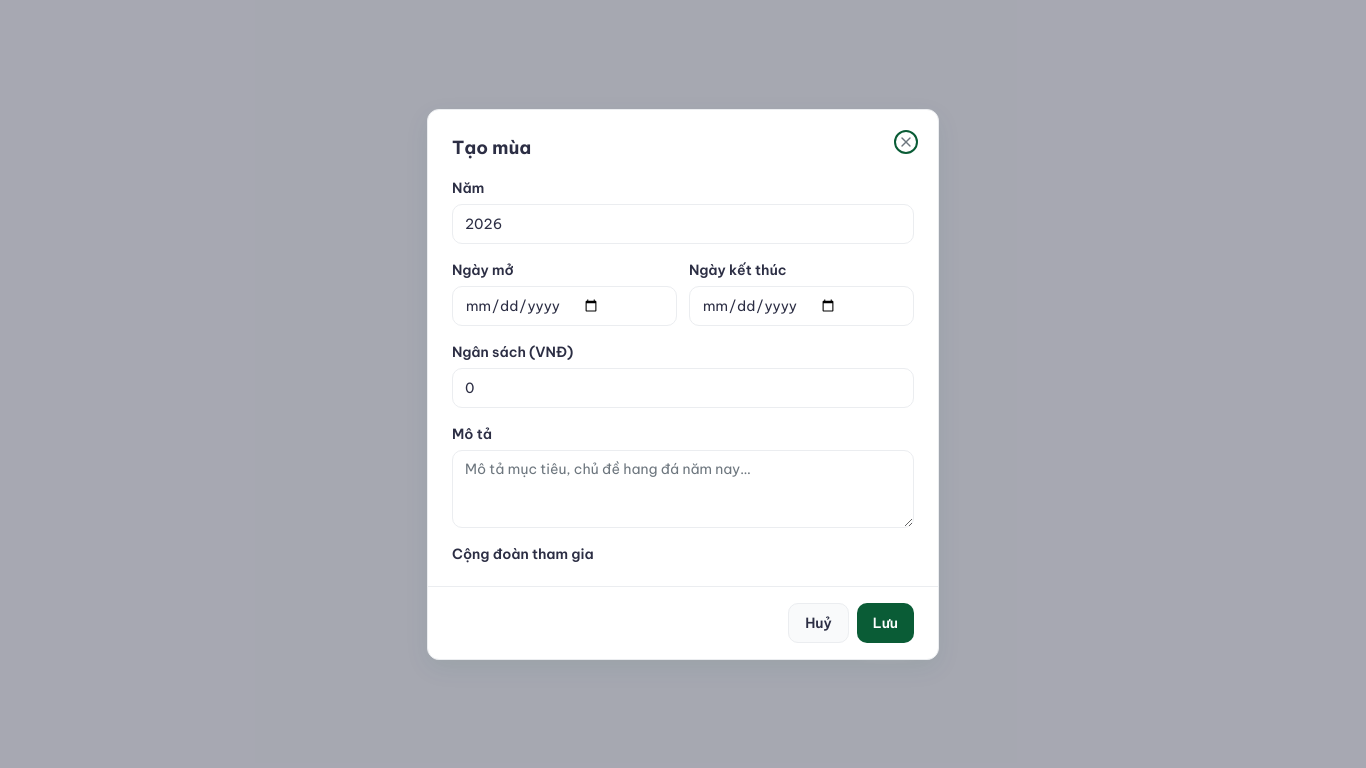
Test case: SeasonFormDialog validation › chưa chọn cộng đoàn → hiện lỗi "Chọn ít nhất 1 cộng đoàn tham gia"
In the date field labelled "Ngày mở": (564, 306) [452,286,677,326], type "2026-09-15"
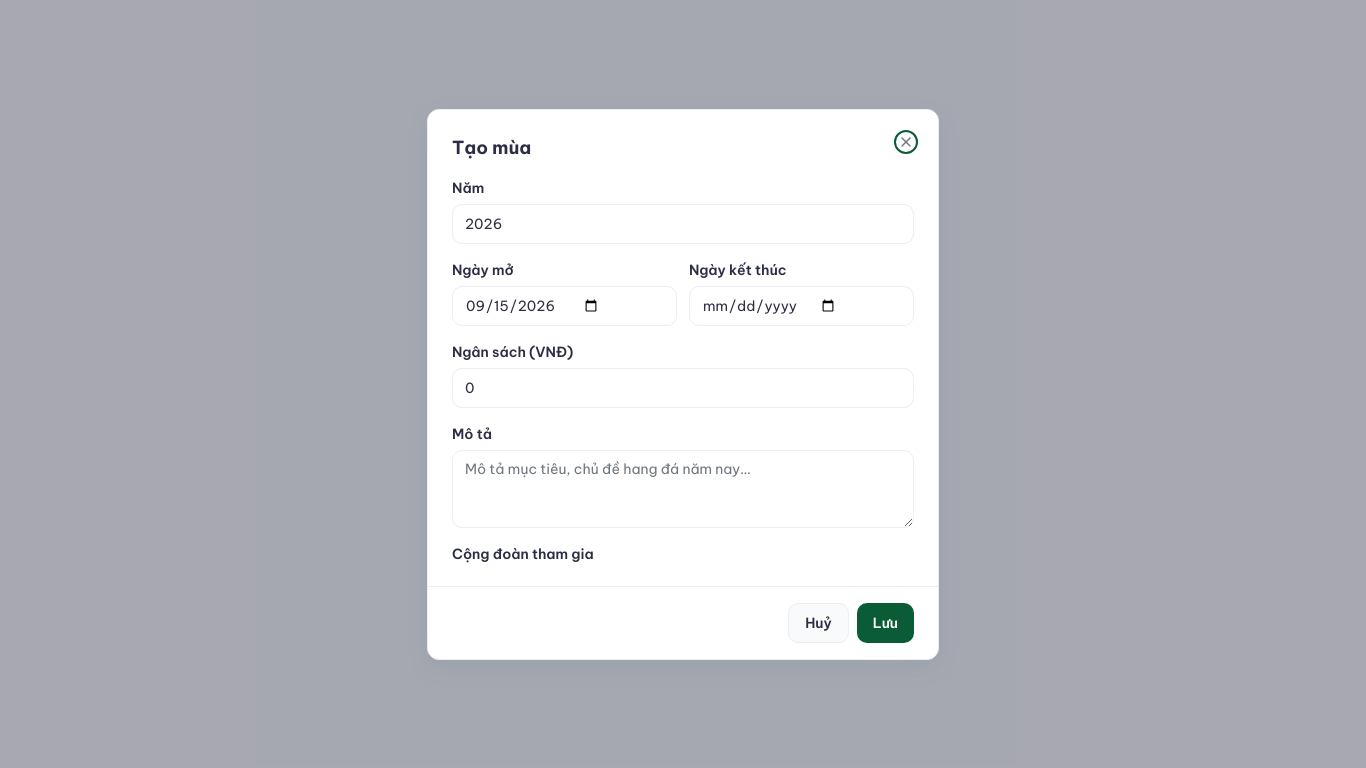
In the date field labelled "Ngày kết thúc": (802, 306) [689,286,914,326], type "2026-12-24"
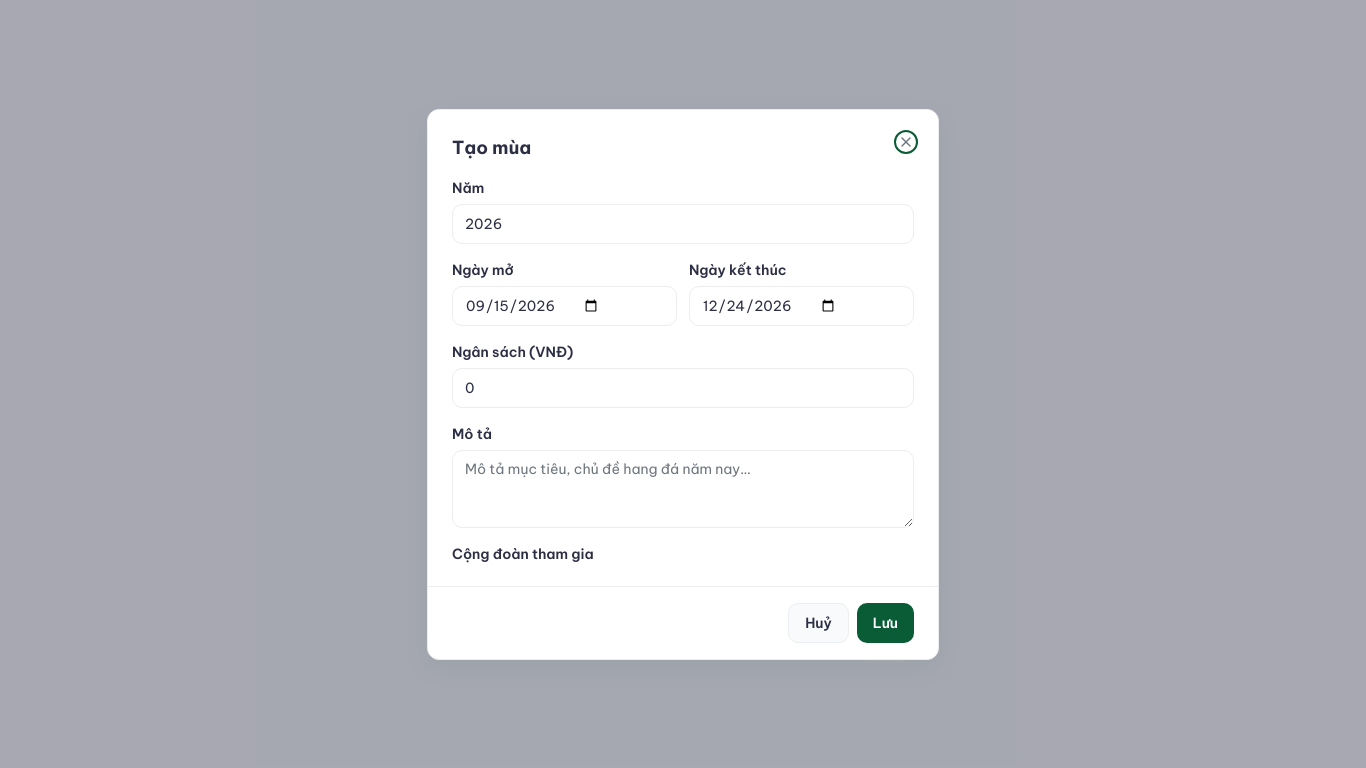
Submit the form with id "season-form", box [452,178,914,570]
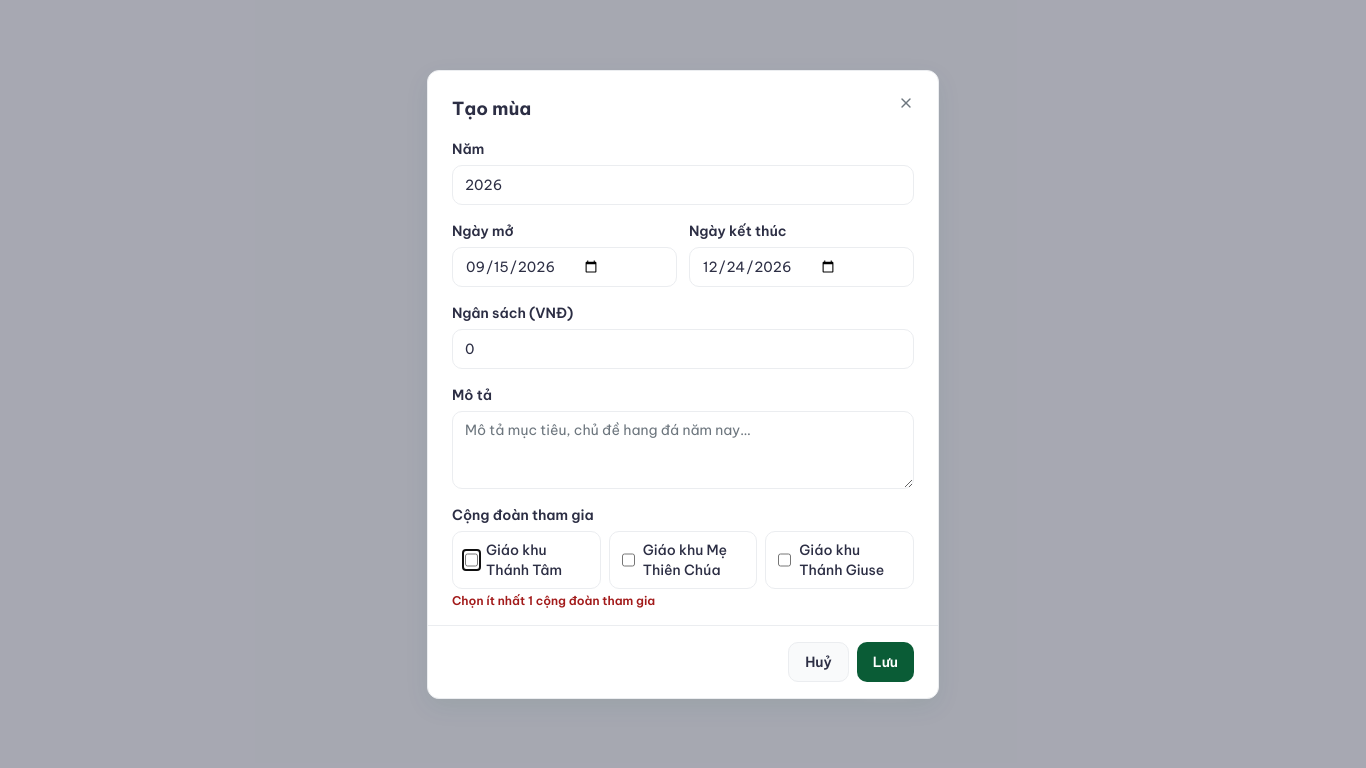
Now the text "Chọn ít nhất 1 cộng đoàn tham gia" is shown, box [452,592,655,608]
